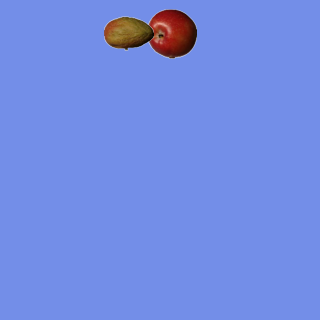Apple Braeburn: (146, 8, 196, 58)
Papaya: (103, 8, 153, 58)
